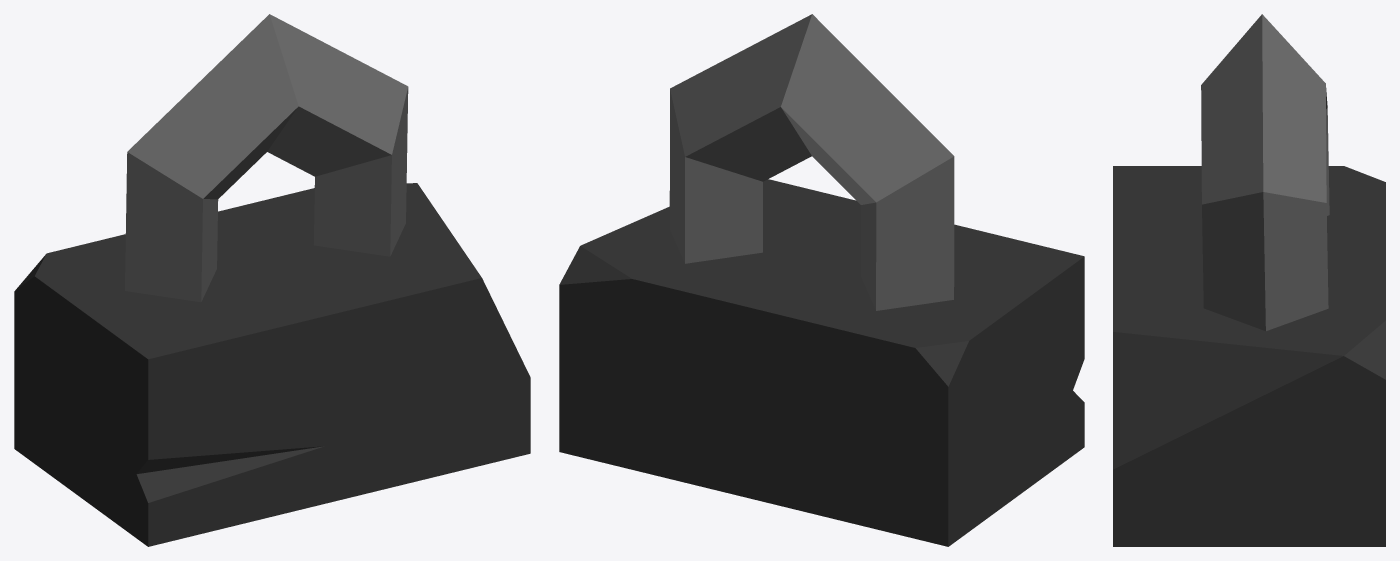
Rendered from ChainStart.fbx.
The picture shows the model from 3 angles, left to right: view 1: azimuth 30°, elevation 25°; view 2: azimuth 150°, elevation 25°; view 3: azimuth 270°, elevation 25°; orthographic projection.
Parts seen in each view (by area): view 1: ChainStart; view 2: ChainStart; view 3: ChainStart.
Boxes of the visible parts, x1,y1,x2,y2 form: ChainStart: (14, 14, 530, 546); ChainStart: (559, 14, 1084, 546); ChainStart: (1113, 14, 1385, 546).
Bounding box in the file's own units: 211 × 228 × 128.
